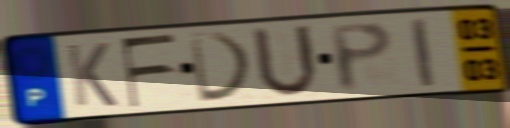D: (186, 30, 256, 106)
F: (117, 31, 179, 111)
I: (406, 15, 438, 91)
K: (63, 41, 120, 109)
P: (326, 19, 396, 94)
U: (249, 23, 322, 101)
